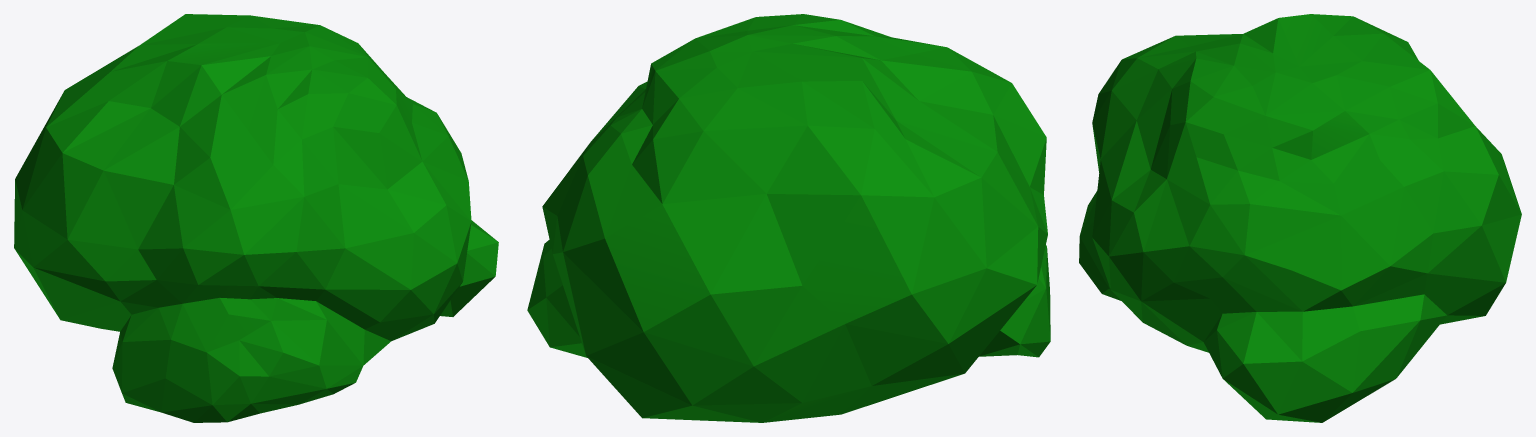
Rendered from lp_tree3_Icosphere_007_tree3_Icosphere_013.obj.
3 views of the same model, side by side, from view 1: azimuth 30°, elevation 25°; view 2: azimuth 150°, elevation 25°; view 3: azimuth 270°, elevation 25° (orthographic). The views are drawn at different scales.
Parts seen in each view (by area): view 1: lp_tree3_Icosphere_007_tree3_Icosphere_013; view 2: lp_tree3_Icosphere_007_tree3_Icosphere_013; view 3: lp_tree3_Icosphere_007_tree3_Icosphere_013.
Boxes of the visible parts, x1=… form: lp_tree3_Icosphere_007_tree3_Icosphere_013: x1=14, y1=14, x2=498, y2=422; lp_tree3_Icosphere_007_tree3_Icosphere_013: x1=527, y1=14, x2=1050, y2=422; lp_tree3_Icosphere_007_tree3_Icosphere_013: x1=1079, y1=14, x2=1521, y2=422.
Size of the model in its own units: 10.81 by 7.1 by 9.83.
